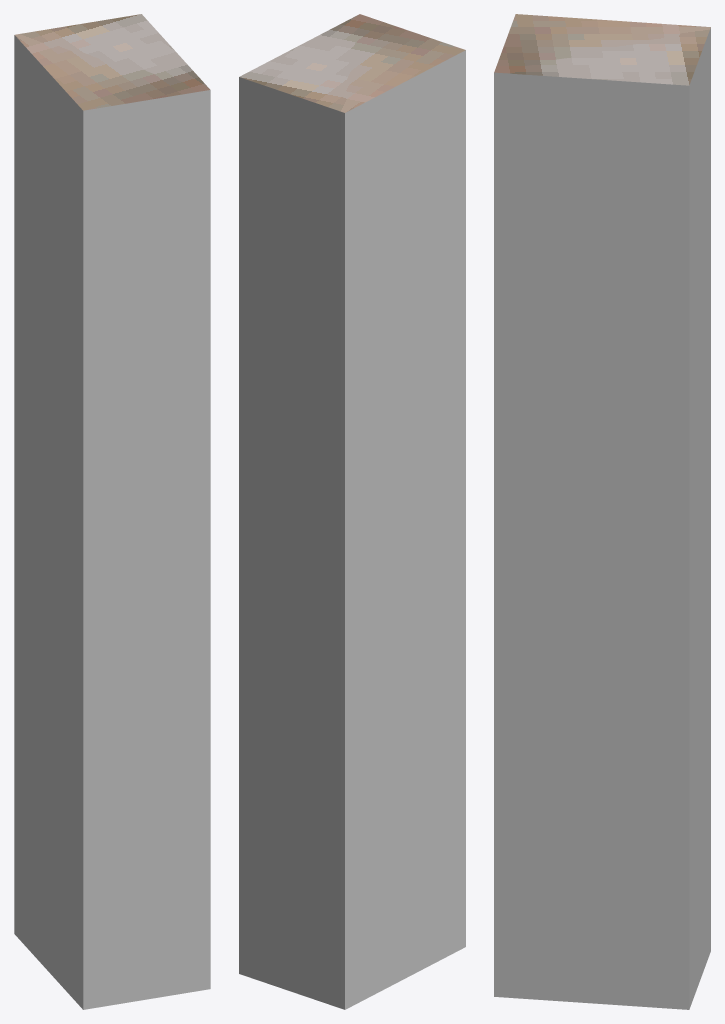
The model's file is DEBW_0010007THYe.gltf.
3 renders of one model, left to right at view 1: azimuth 30°, elevation 25°; view 2: azimuth 150°, elevation 25°; view 3: azimuth 270°, elevation 25°, orthographic. The views are drawn at different scales.
Parts seen in each view (by area): view 1: Z_UP; view 2: Z_UP; view 3: Z_UP.
Boxes of the visible parts, <box> form: Z_UP: <box>14,14,210,1009</box>; Z_UP: <box>239,14,465,1009</box>; Z_UP: <box>494,14,710,1009</box>.
Size of the model in its own units: 2.13 by 12.8 by 2.72.
Materials: 2 (1 with a texture image).
